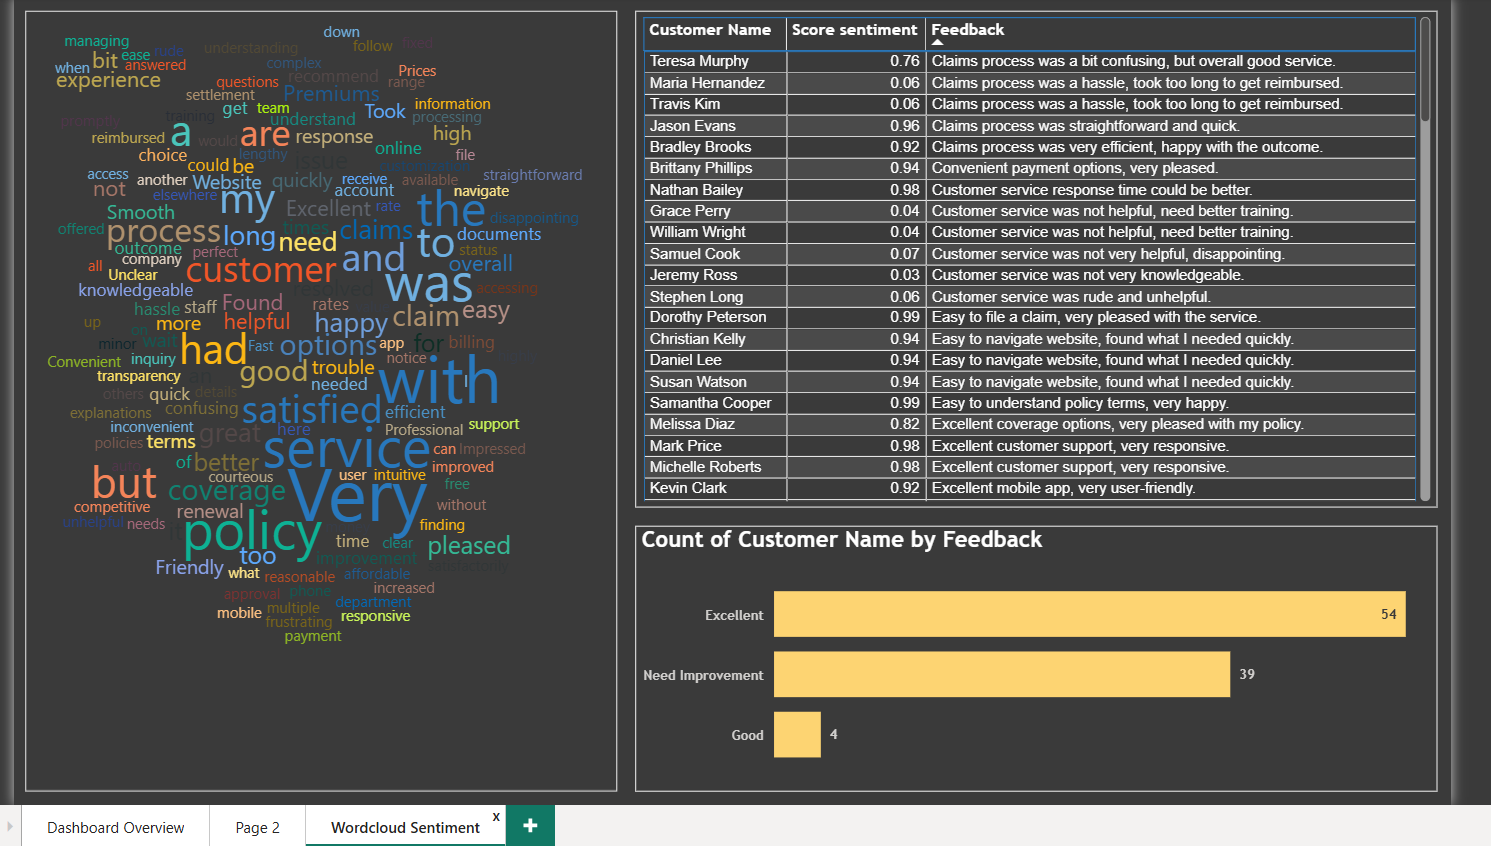

This screenshot's page, from the dashboard's own definition file:
{"tool":"powerbi","page":{"name":"Page 3","canvas":[1280,720],"ordinal":2},"visuals":[{"type":"WordCloud1447959067750","fields":{"Category":["Sheet1.Feedback"],"Values":["Min(Sheet1.Feedback)"]},"box":[9.7,12.1,527.2,694.9],"z":0},{"type":"barChart","title":"Count of Customer Name  by Feedback","fields":{"Category":["Sheet1.Good/Improvement"],"Y":["CountNonNull(Sheet1.Customer Name)"]},"box":[553.8,470.5,714.2,236.5],"z":1},{"type":"tableEx","fields":{"Values":["Sheet1.Customer Name","Sheet1.Score sentiment","Sheet1.Feedback"]},"box":[553.8,12.1,714.2,442.8],"z":2}]}

Visuals, with their boxes on the page's 1280x720 design canvas (x1, y1, x2, y2). These are canvas units, not pixel positions in the 1491x846 screenshot, which may show the page scaled, cropped or inside an application window:
WordCloud1447959067750 - Sheet1.Feedback x Min(Sheet1.Feedback): <box>10,12,537,707</box>
"Count of Customer Name  by Feedback" barChart: <box>554,470,1268,707</box>
tableEx - Sheet1.Customer Name x Sheet1.Score sentiment: <box>554,12,1268,455</box>
